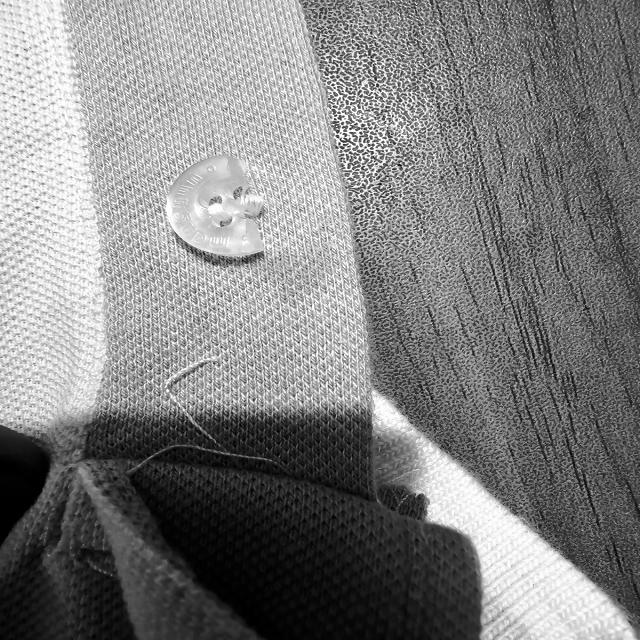Broken_button: (155, 148, 288, 266)
